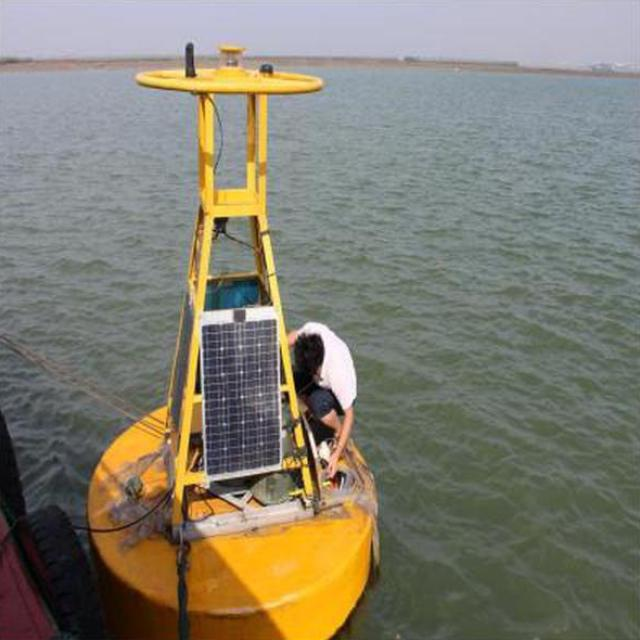buoy: (86, 39, 380, 640)
